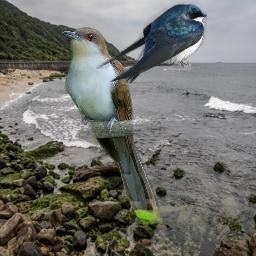Cuckoo: (60, 27, 162, 225)
Swallow: (96, 3, 207, 84)
